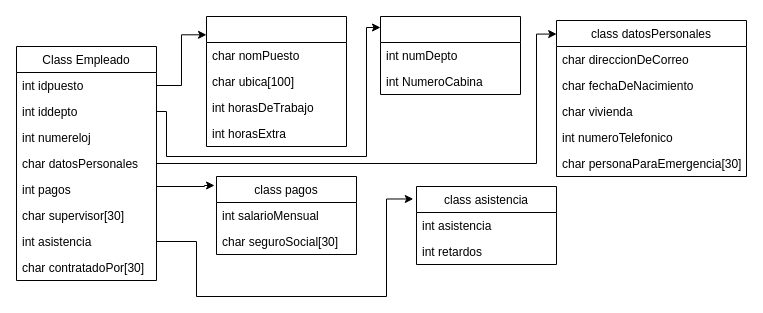
The diagram is 763 pixels wide and 313 high, and some of its shapes have lost their labels. The shapes that lost their labels are listed below. From the top down, each one's box as (x1, y1, x2, y2) in pixels, then its label:
(380, 16, 520, 94): class iddepto
(206, 16, 346, 146): class idpuesto
